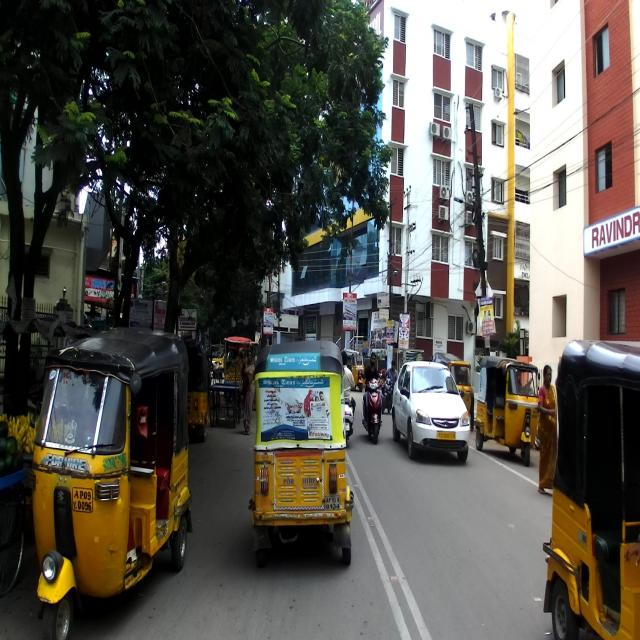autorickshaw: (23, 318, 191, 638), (541, 339, 640, 638), (248, 338, 354, 566), (472, 356, 540, 466)
car: (390, 360, 471, 462)
scooter: (361, 376, 384, 438)
